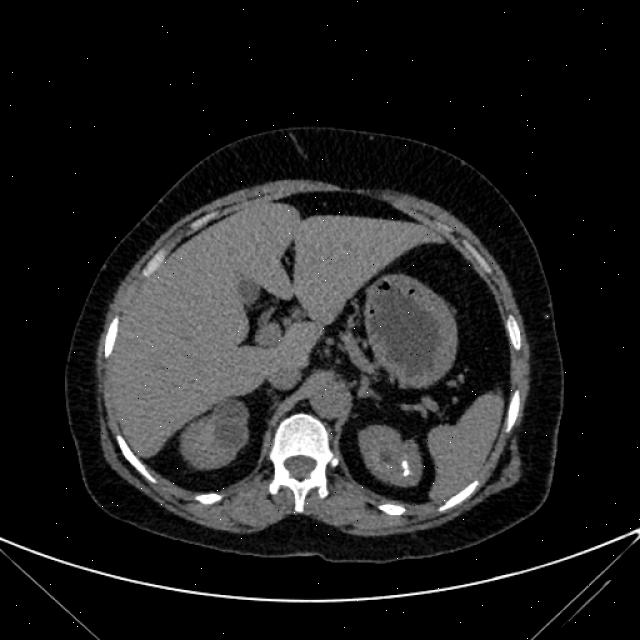kidneystone: (402, 460, 411, 477)
